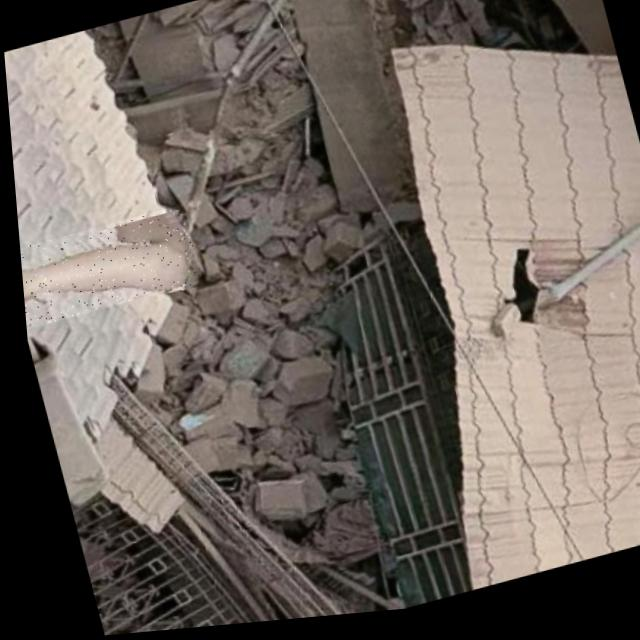Person in Rubble: (14, 206, 198, 329)
